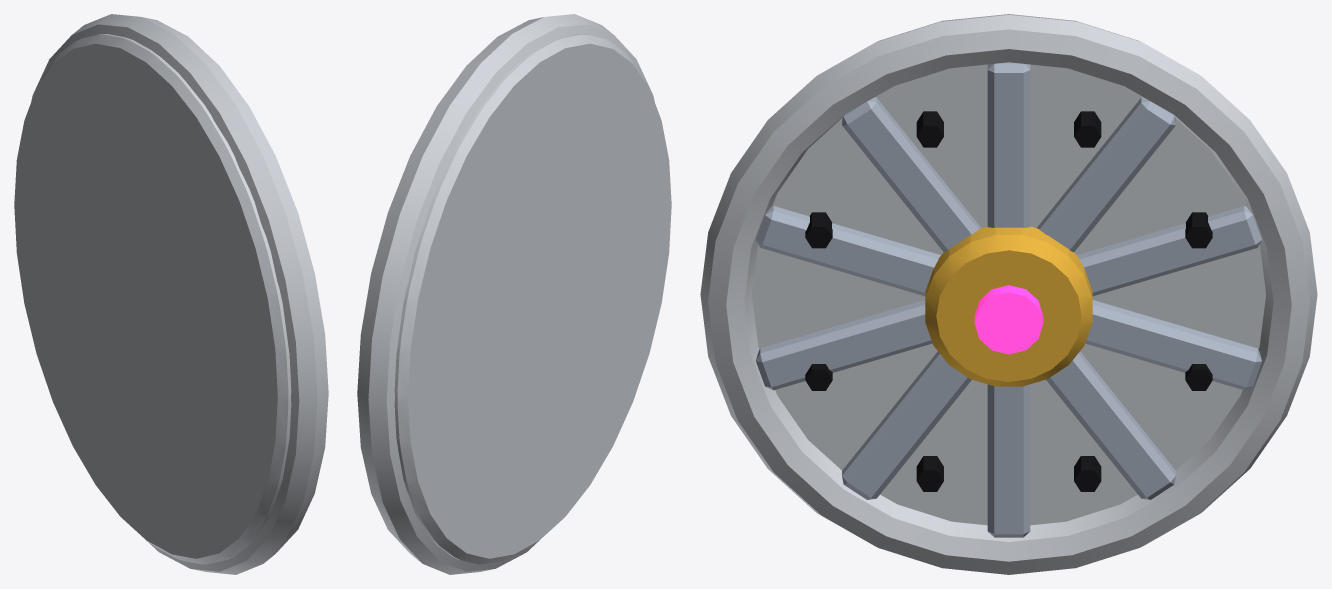
Rendered from hubcap_decorative.glb.
3 renders of one model, left to right at view 1: azimuth 30°, elevation 25°; view 2: azimuth 150°, elevation 25°; view 3: azimuth 270°, elevation 25°, orthographic. The views are drawn at different scales.
Parts seen in each view (by area): view 1: chrome; view 2: chrome; view 3: chrome, steel, paint_gold, plastic_black, lamp_pink.
Part boxes in pixels (left/top/right/bottom): chrome: left=14, top=14, right=328, bottom=574; chrome: left=357, top=14, right=671, bottom=574; chrome: left=700, top=14, right=1317, bottom=574; steel: left=756, top=62, right=1261, bottom=537; paint_gold: left=925, top=226, right=1092, bottom=386; plastic_black: left=805, top=111, right=1212, bottom=491; lamp_pink: left=974, top=285, right=1043, bottom=354.
Bounding box in the file's own units: 0.12 × 0.72 × 0.72.
